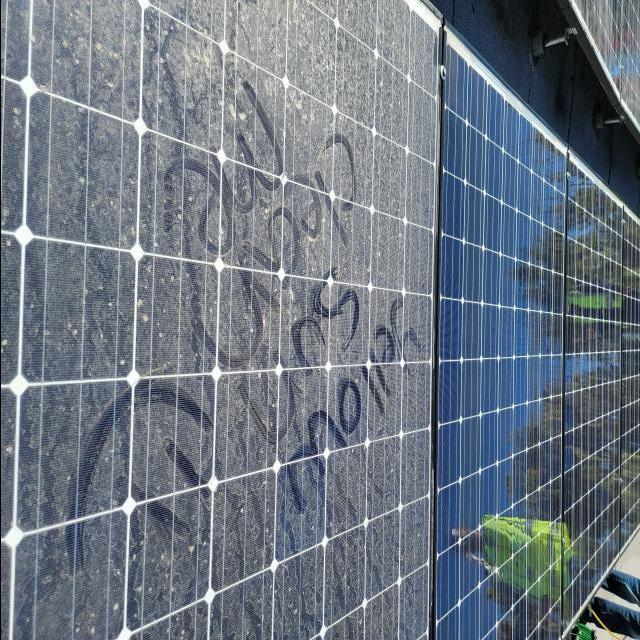faulty: (2, 0, 433, 640)
no faulty: (440, 48, 640, 638)
